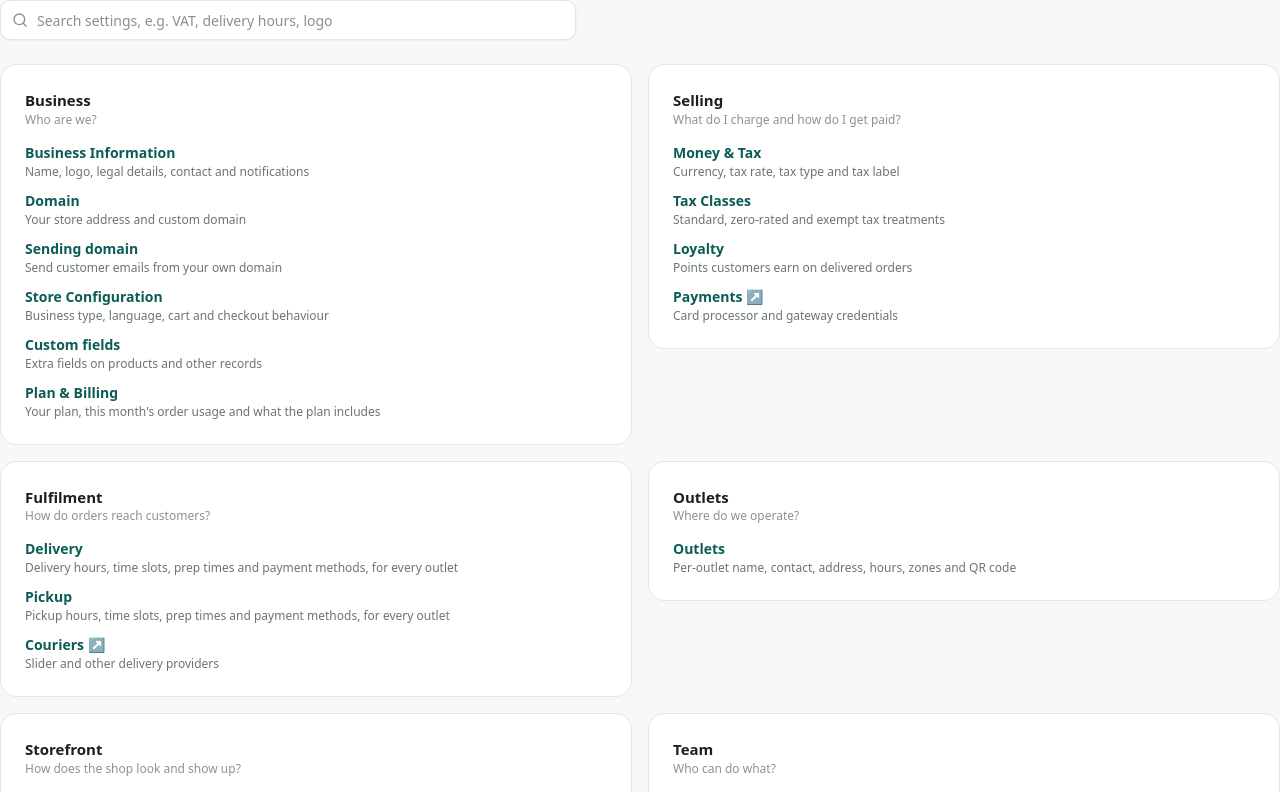
Settings landing page › says so when nothing matches
The width and height of the screenshot is (1280, 792).
Type "qqqq" into the search field labelled "Search settings".
click(288, 20); type("qqqq")  # box [0,0,576,40]
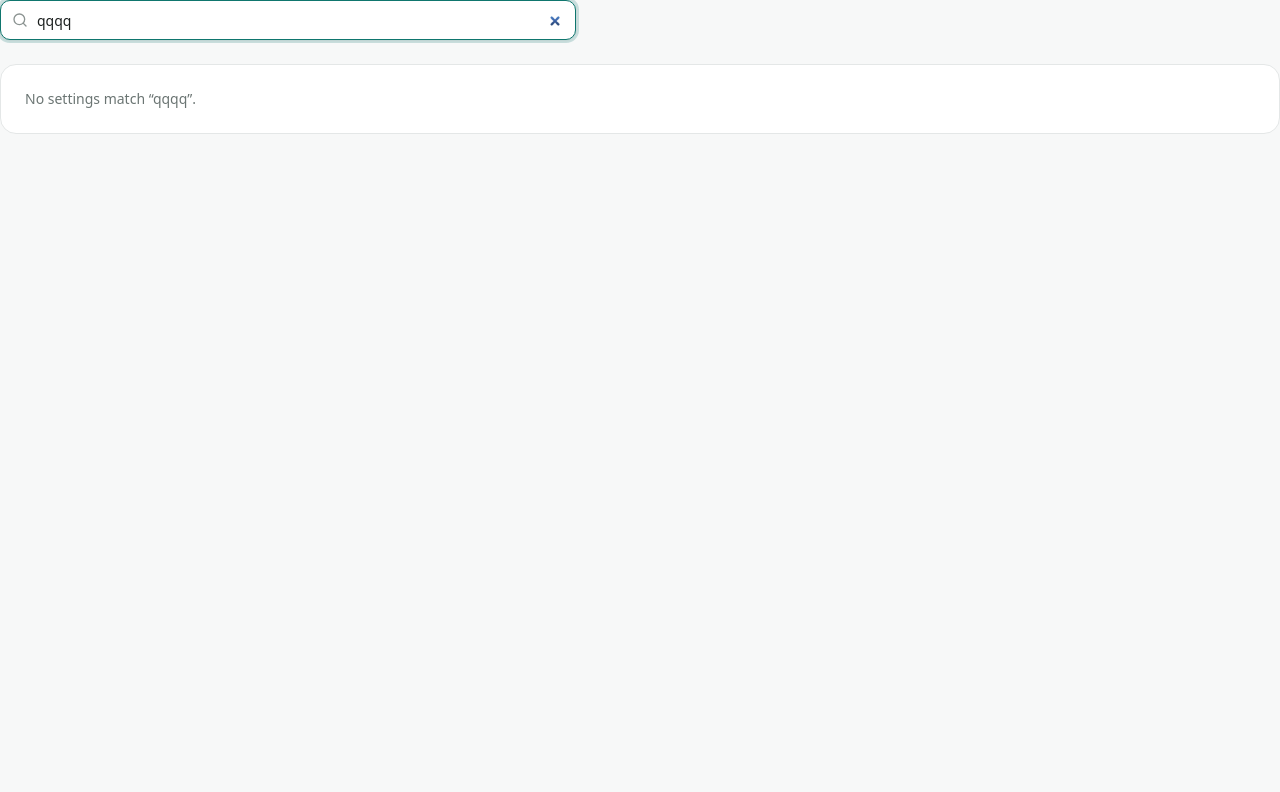
Result: the text "No settings match “qqqq”." is shown at [25,89,196,108]
